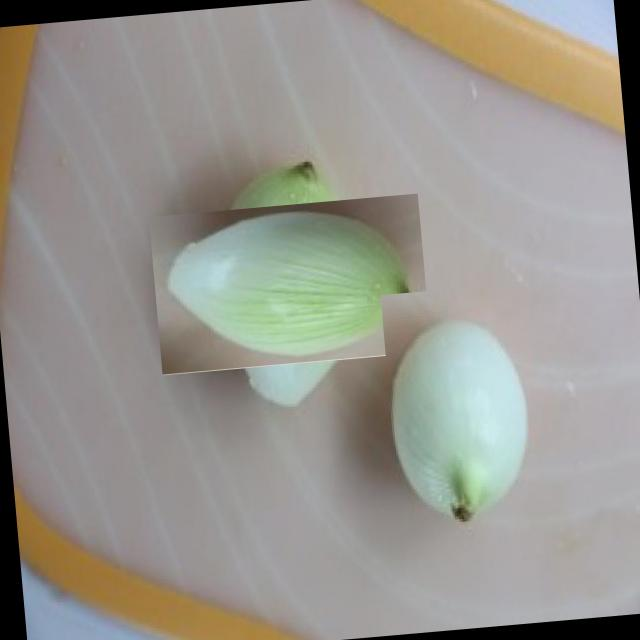Onion: (174, 167, 406, 400), (380, 282, 544, 548)
